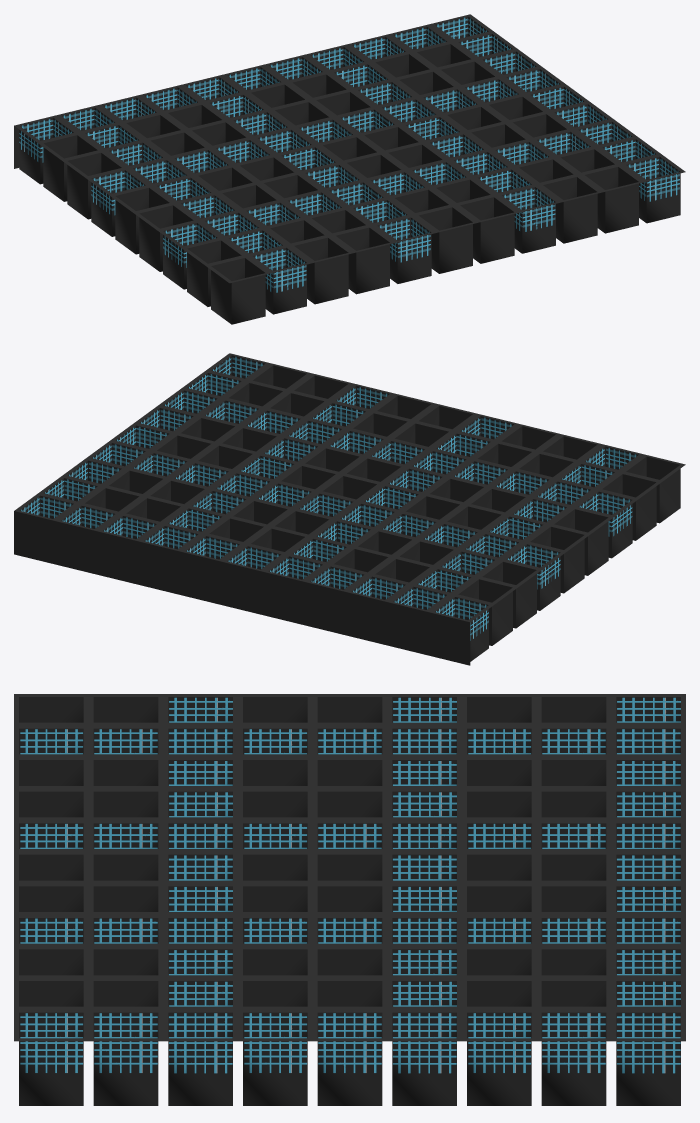
File: tiled_overFloor.obj
3 renders of one model, top to bottom at view 1: azimuth 30°, elevation 25°; view 2: azimuth 150°, elevation 25°; view 3: azimuth 270°, elevation 25°, orthographic. The views are drawn at different scales.
Parts seen in each view (by area): view 1: tiled_floor.001; view 2: tiled_floor.001; view 3: tiled_floor.001.
Part boxes in pixels (bbox=[...]): tiled_floor.001: bbox=[14, 14, 685, 324]; tiled_floor.001: bbox=[14, 353, 685, 665]; tiled_floor.001: bbox=[14, 694, 685, 1105].
Bounding box in the file's own units: 22 × 2 × 18.
Materials: 1 (1 with a texture image).
